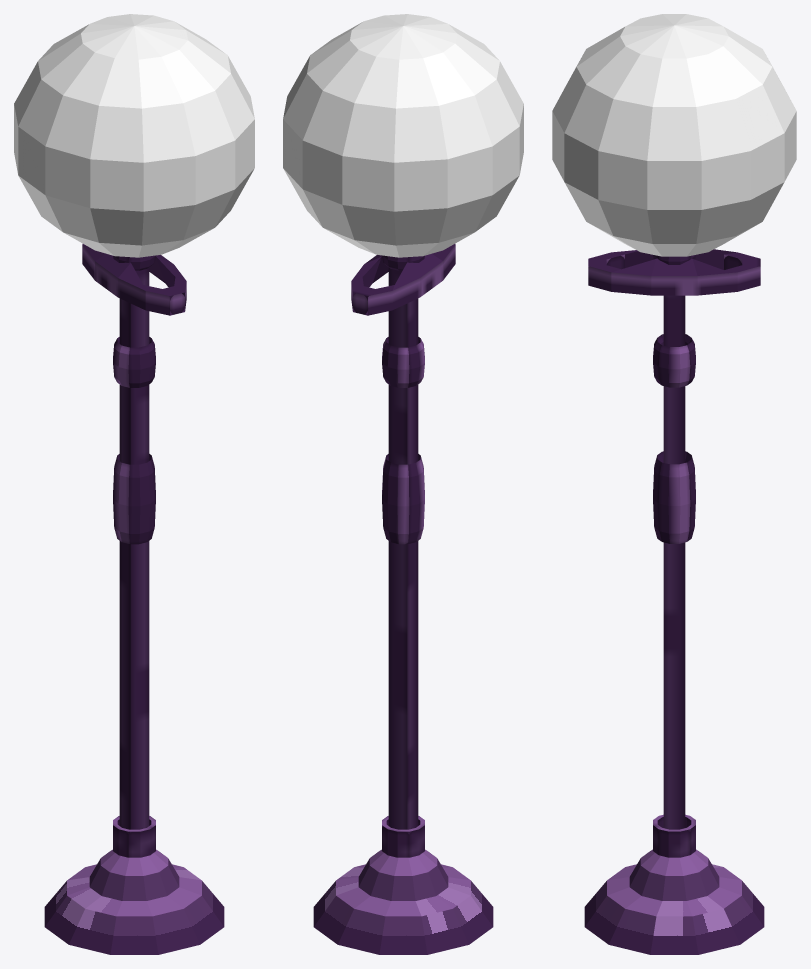
The model's file is Lamp.fbx.
3 renders of one model, left to right at view 1: azimuth 30°, elevation 25°; view 2: azimuth 150°, elevation 25°; view 3: azimuth 270°, elevation 25°, orthographic.
Parts seen in each view (by area): view 1: Top, Base, pole, Neck, Big tube, top tube, bottom tube; view 2: Top, Base, pole, Neck, Big tube, top tube, bottom tube; view 3: Top, Base, pole, Neck, Big tube, top tube, bottom tube.
Boxes of the visible parts, <box> form: Top: <box>14,14,254,257</box>; Base: <box>44,849,224,954</box>; pole: <box>119,267,149,829</box>; Neck: <box>82,244,186,315</box>; Big tube: <box>113,454,155,544</box>; top tube: <box>113,337,155,387</box>; bottom tube: <box>113,816,155,857</box>; Top: <box>283,14,523,257</box>; Base: <box>313,849,493,954</box>; pole: <box>388,267,418,829</box>; Neck: <box>351,244,455,315</box>; Big tube: <box>382,454,424,544</box>; top tube: <box>382,337,424,387</box>; bottom tube: <box>382,816,424,857</box>; Top: <box>552,14,796,256</box>; Base: <box>584,849,764,954</box>; pole: <box>663,295,685,829</box>; Neck: <box>588,249,760,295</box>; Big tube: <box>653,451,695,543</box>; top tube: <box>653,334,695,387</box>; bottom tube: <box>653,814,695,857</box>.
Bounding box in the file's own units: 82.55 × 342 × 84.99.
3 materials, 3 textured.
